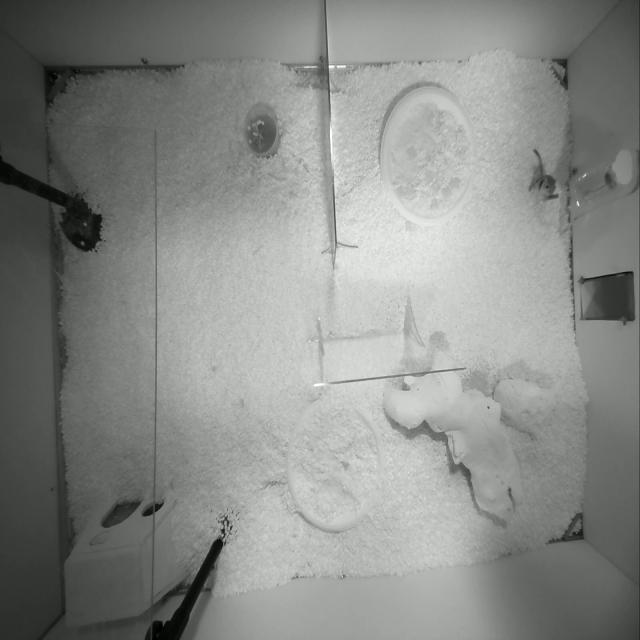pup_h_stripe: (528, 149, 556, 198)
